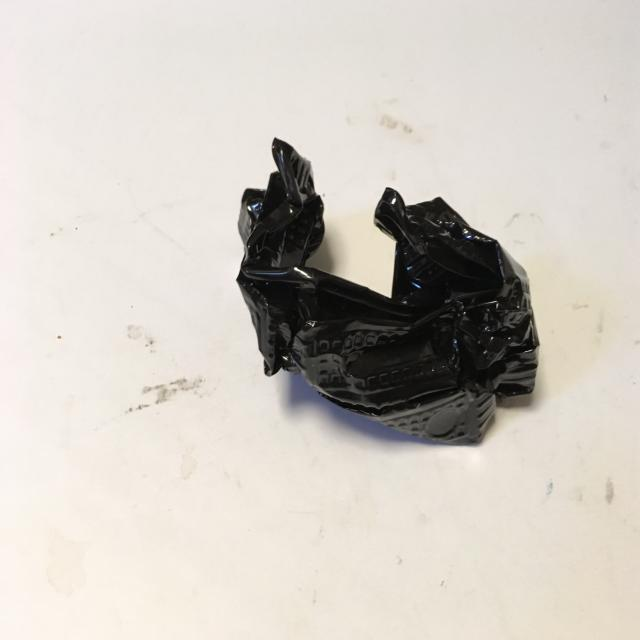plastic: (235, 136, 540, 446)
